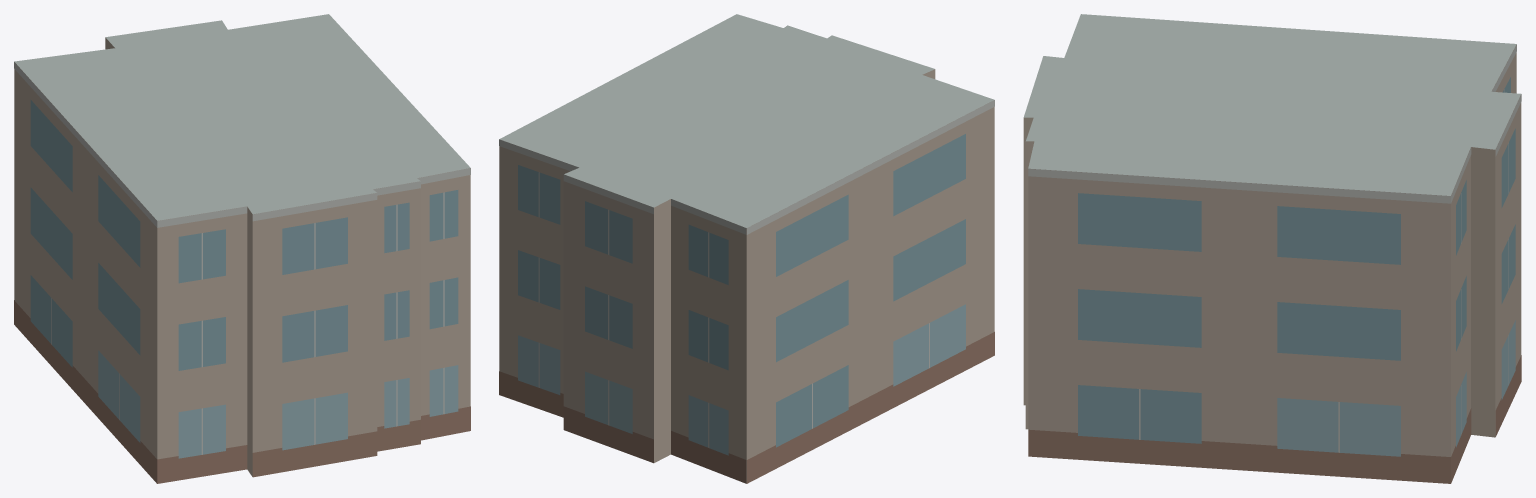
The model's file is survey-upis-32674047.glb.
3 views of the same model, side by side, from view 1: azimuth 30°, elevation 25°; view 2: azimuth 150°, elevation 25°; view 3: azimuth 270°, elevation 25° (orthographic). The views are drawn at different scales.
Parts seen in each view (by area): view 1: survey-upis-32674047.tmp; view 2: survey-upis-32674047.tmp; view 3: survey-upis-32674047.tmp.
Part boxes in pixels (x1=…): survey-upis-32674047.tmp: x1=14, y1=14, x2=470, y2=483; survey-upis-32674047.tmp: x1=499, y1=14, x2=994, y2=483; survey-upis-32674047.tmp: x1=1023, y1=14, x2=1521, y2=483.
Size of the model in its own units: 12.42 by 9.15 by 14.35.
